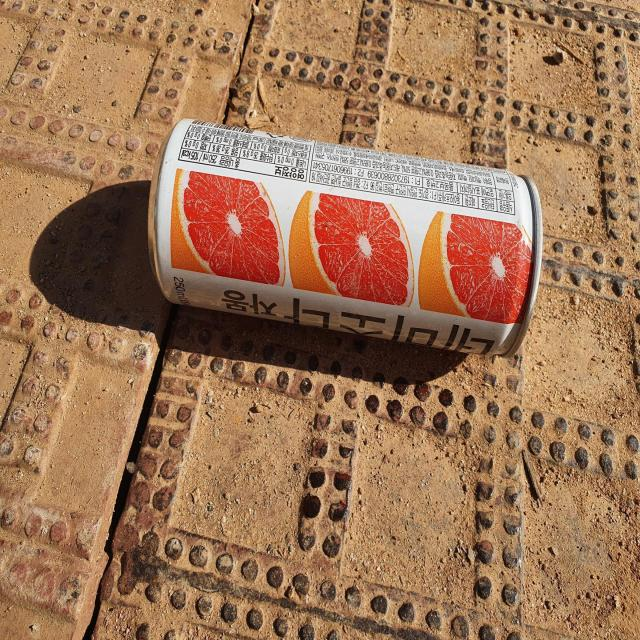can: (148, 119, 543, 357)
